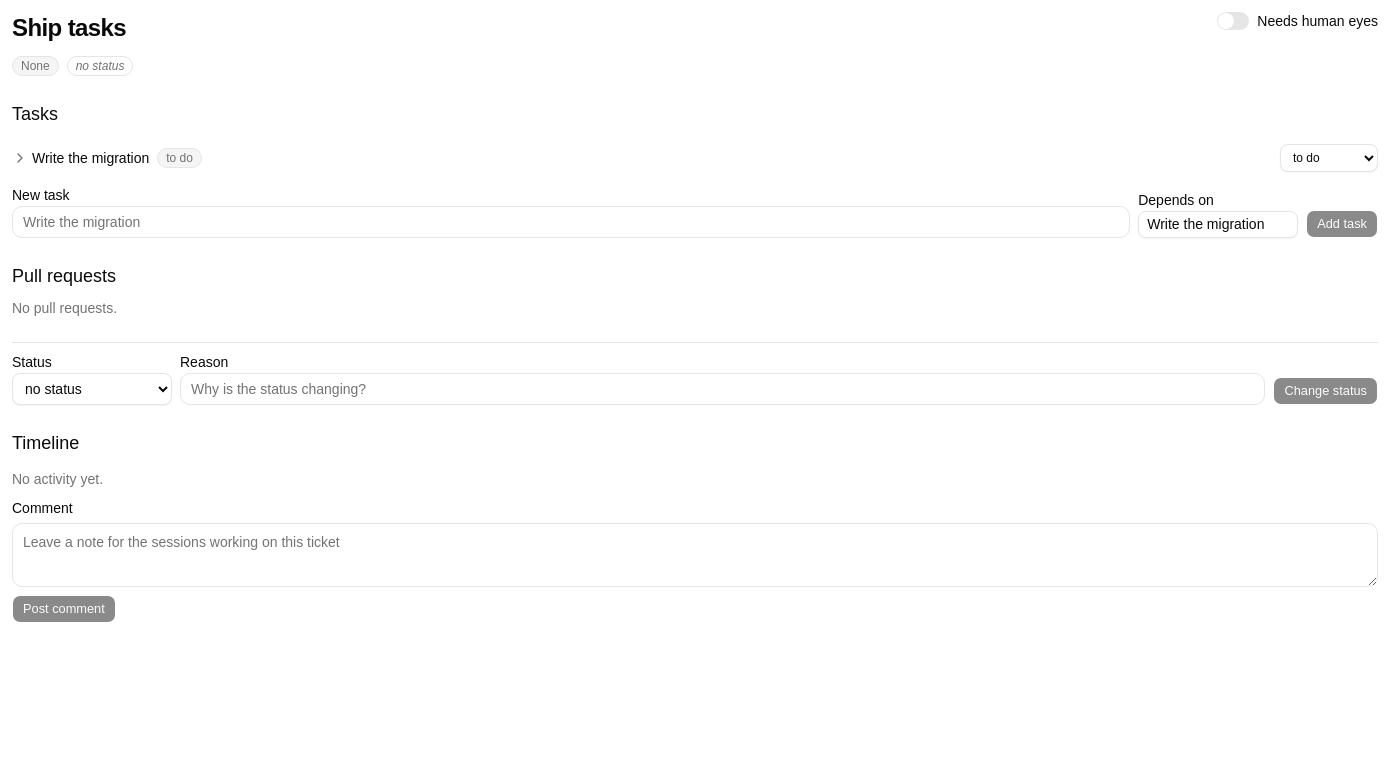
Test: TicketDetailPage tasks › human can add a task with dependencies; request carries {title, depends_on, actor_session_id:"human"} and the list refreshes
Expected: the heading "Ship tasks" is shown, left=12, top=12, right=126, bottom=44
In the field labelled "New task": (571, 222) left=12, top=206, right=1130, bottom=238, type "Expose the API"
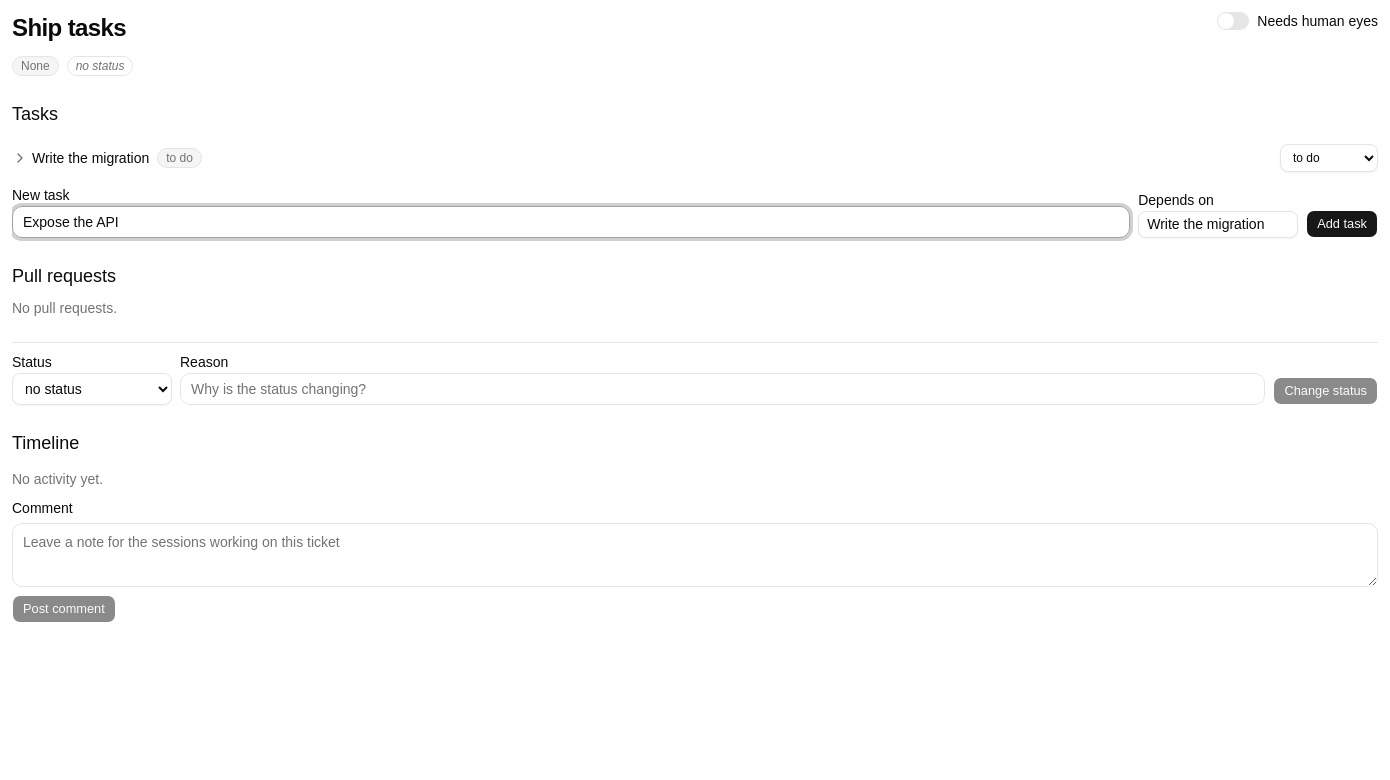
Select "Write the migration" in the dropdown labelled "Depends on": (1218, 225) left=1138, top=211, right=1298, bottom=238
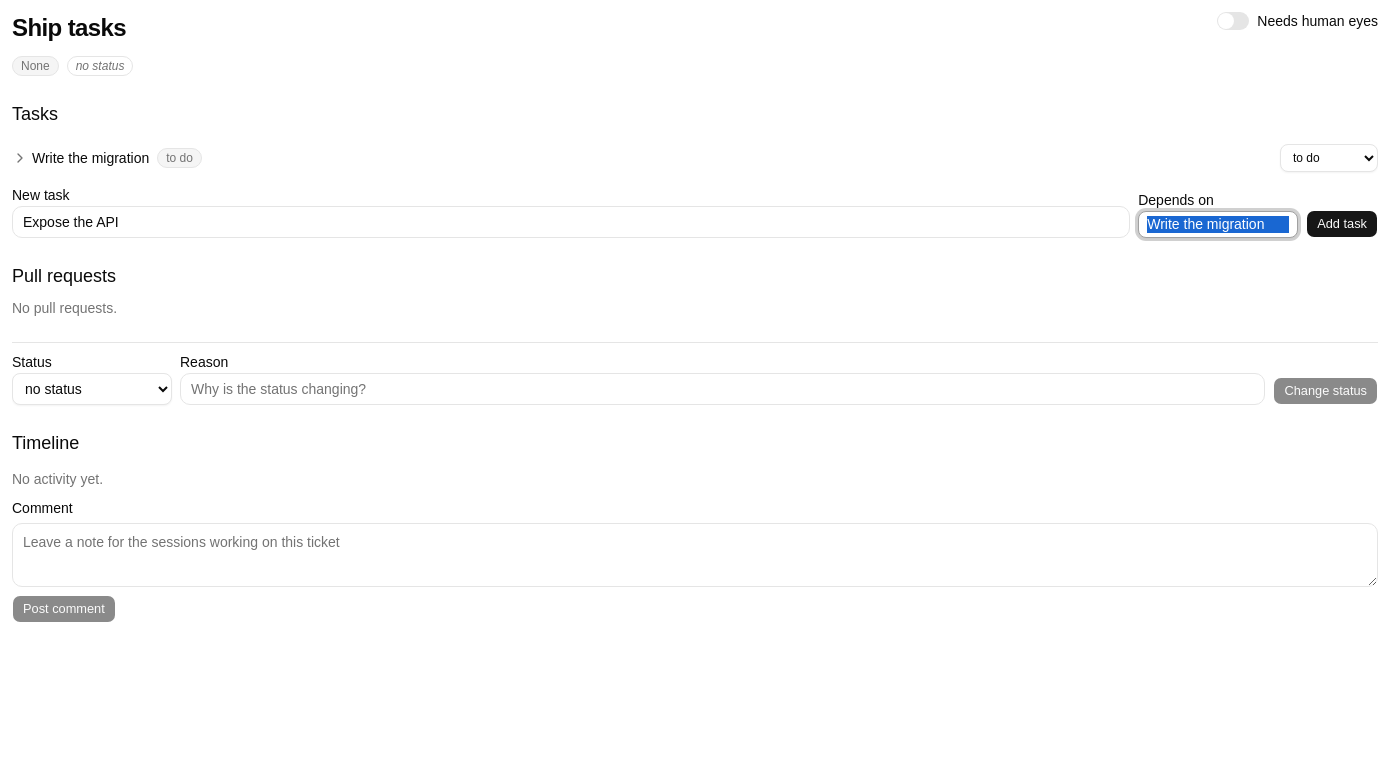
Click the button "Add task": (1342, 224) left=1306, top=210, right=1378, bottom=238
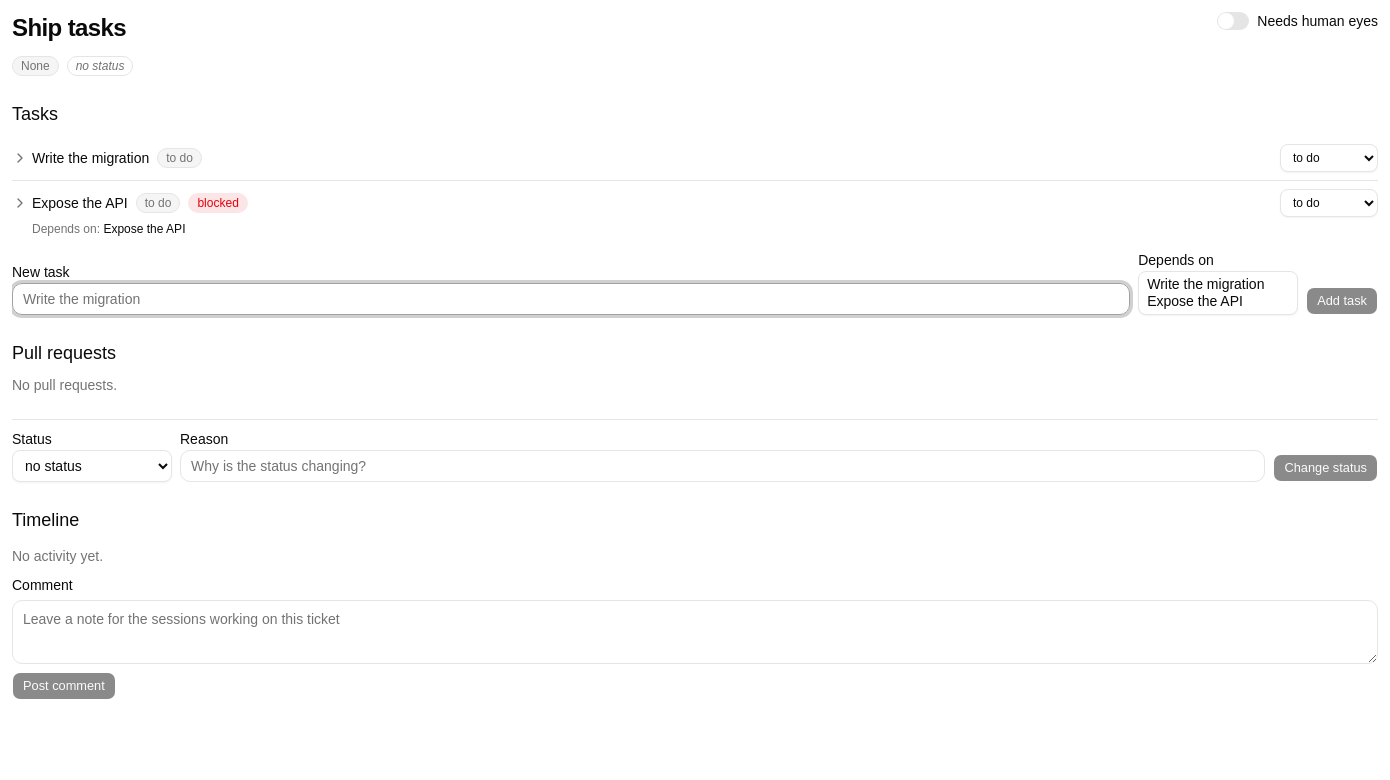
Result: the number of list items is 2 at left=12, top=136, right=1378, bottom=181; left=12, top=181, right=1378, bottom=245
Result: the list item "Expose the API to do blocked Depends on: Expose the API" is shown at left=12, top=181, right=1378, bottom=245
Result: the field labelled "New task" is empty at left=12, top=283, right=1130, bottom=315
